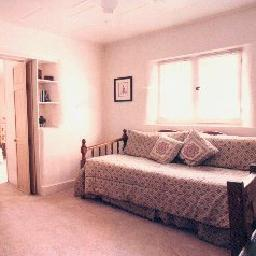Ventana: (151, 62, 244, 121)
